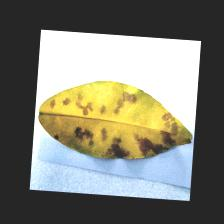canker: (45, 85, 184, 162)
